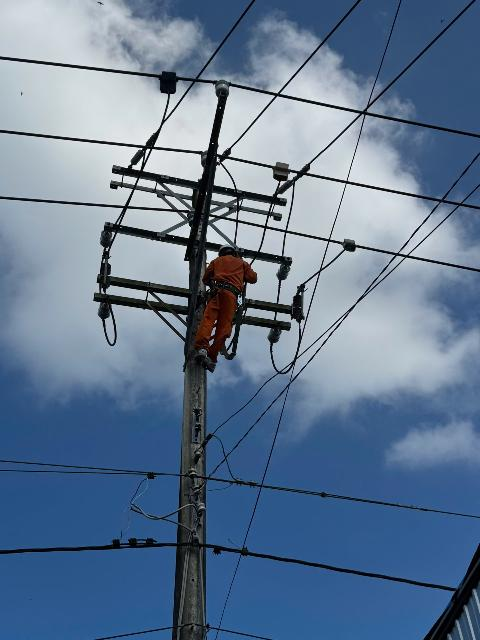harness: (213, 273, 246, 303)
helmet: (214, 240, 246, 259)
shoes: (201, 355, 224, 374), (195, 348, 207, 364)
